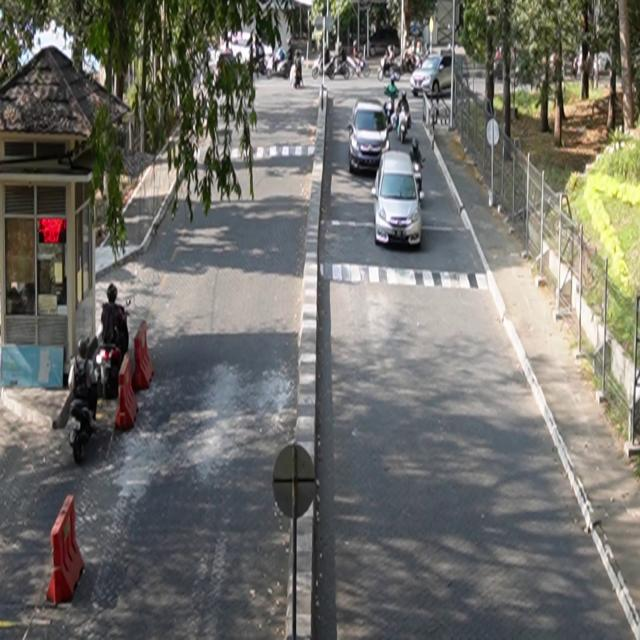car: (372, 150, 423, 249), (348, 100, 391, 174)
